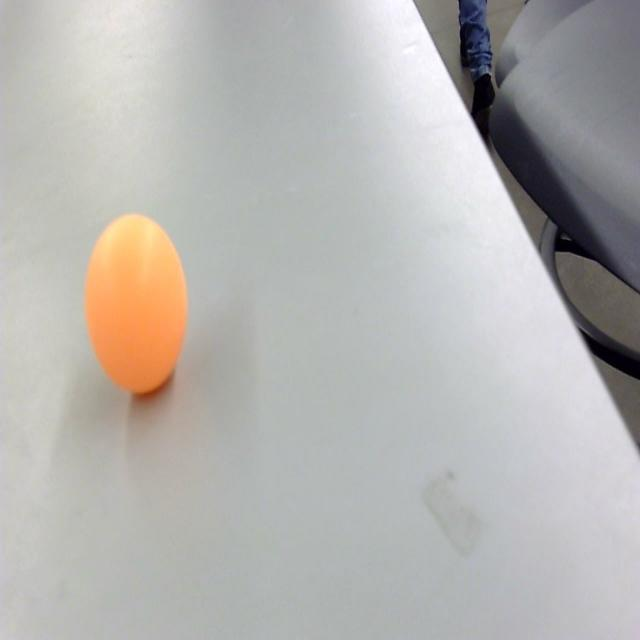ball: (84, 210, 192, 397)
